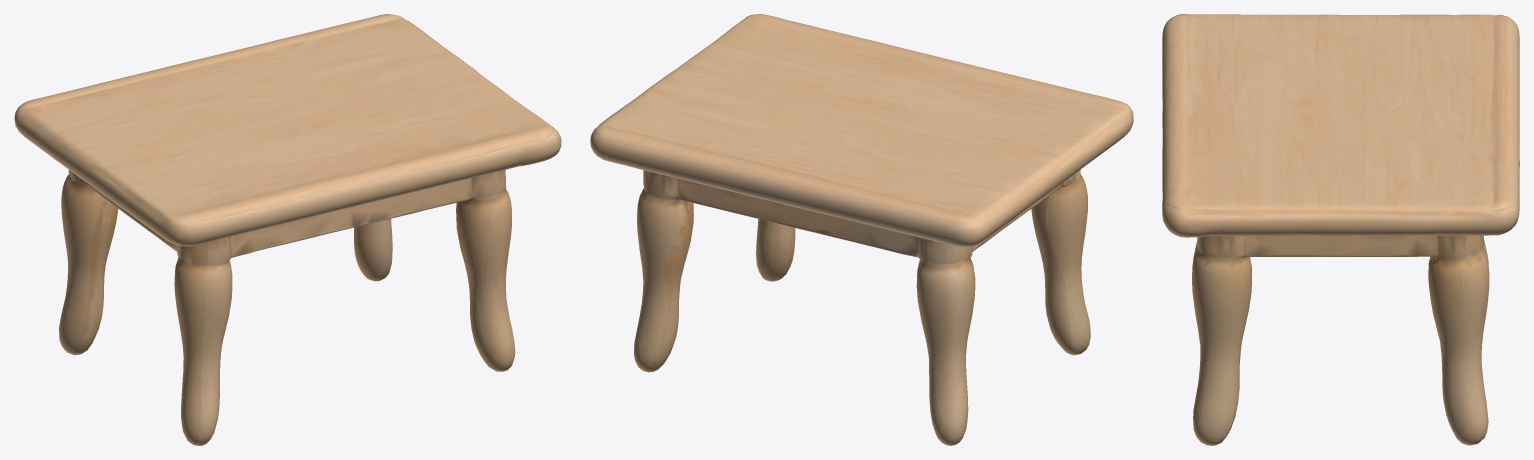
The model's file is table.glb.
The picture shows the model from 3 angles, left to right: view 1: azimuth 30°, elevation 25°; view 2: azimuth 150°, elevation 25°; view 3: azimuth 270°, elevation 25°; orthographic projection. The views are drawn at different scales.
Size of the model in its own units: 64793 by 38729 by 48553.
Materials: 1 (1 with a texture image).
